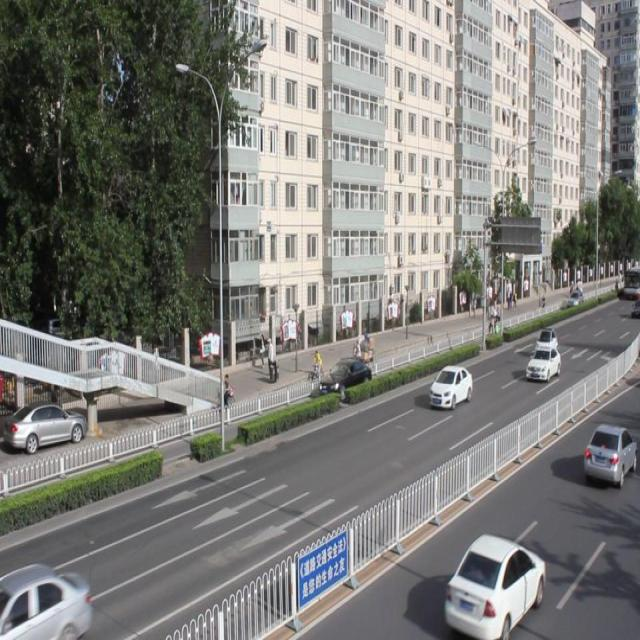car: (443, 530, 544, 640), (1, 559, 91, 640), (580, 420, 640, 485), (428, 361, 471, 409), (319, 356, 371, 394), (524, 344, 560, 382)
